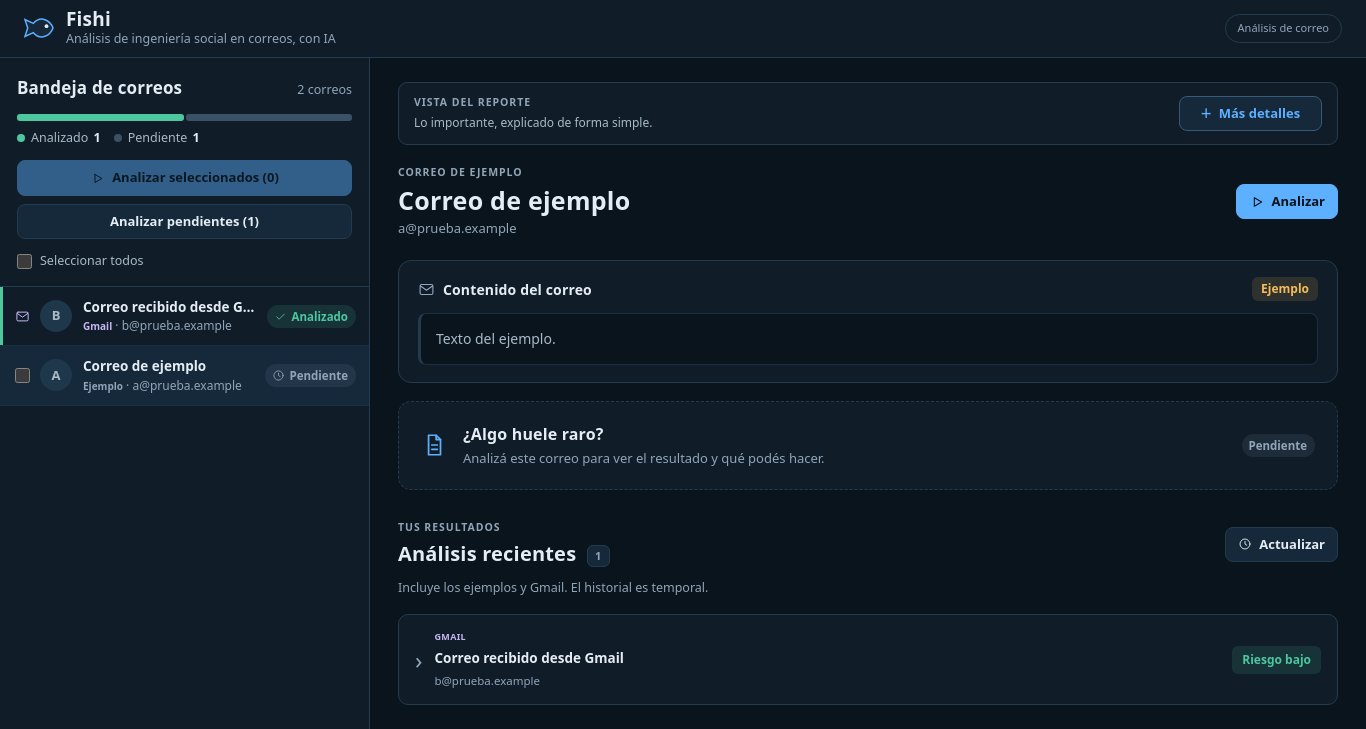
Scenario: incorpora Gmail a la bandeja y al conteo sin reenviarlo al analizar seleccionados
Later steps or results of the test are not shown.
Expected: the text "2 correos" is shown, [297,81,352,100]
Expected: the picture named "Analizado: 1, Pendiente: 1" is shown, [17,114,352,147]
Click the button "B Correo recibido desde Gmail Gmail · b@prueba.example": click(148, 316) [40,297,257,335]
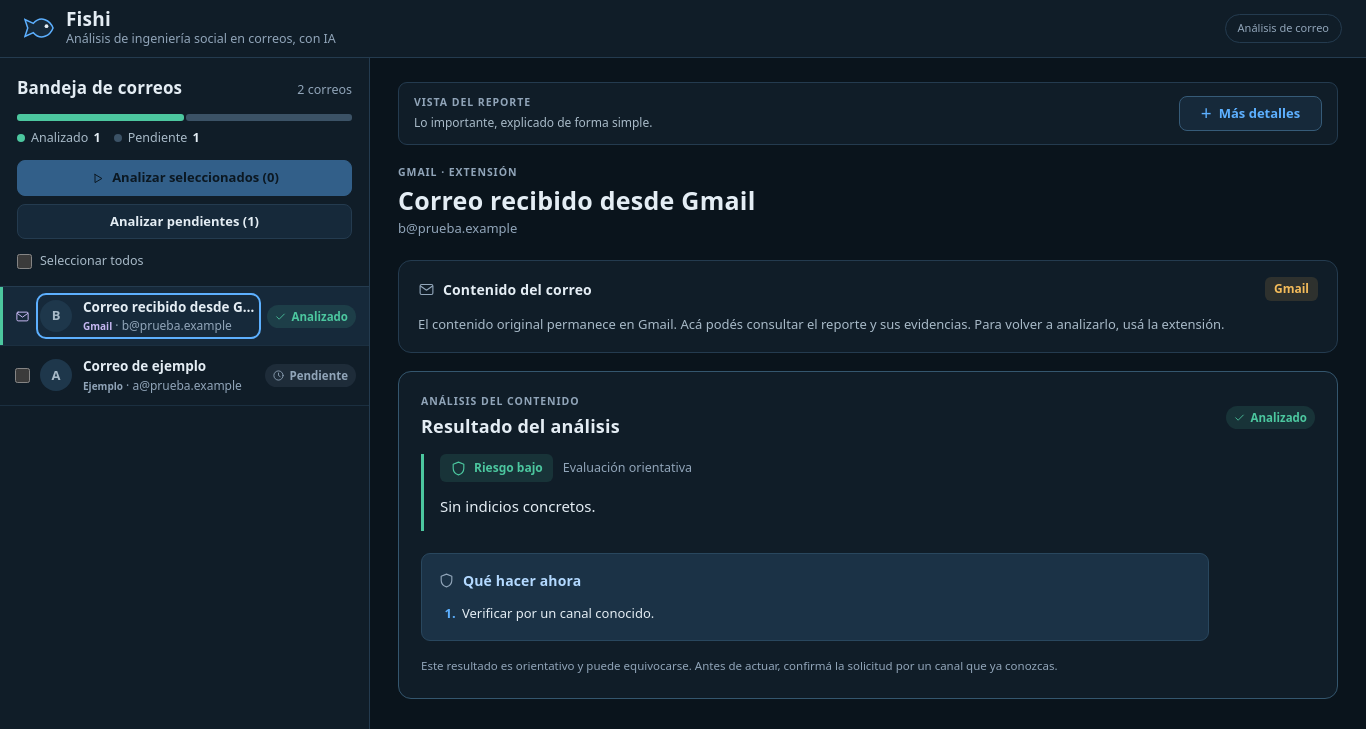
Expected: the text "El contenido original permanece en Gmail" is shown, [418,315,1225,333]
